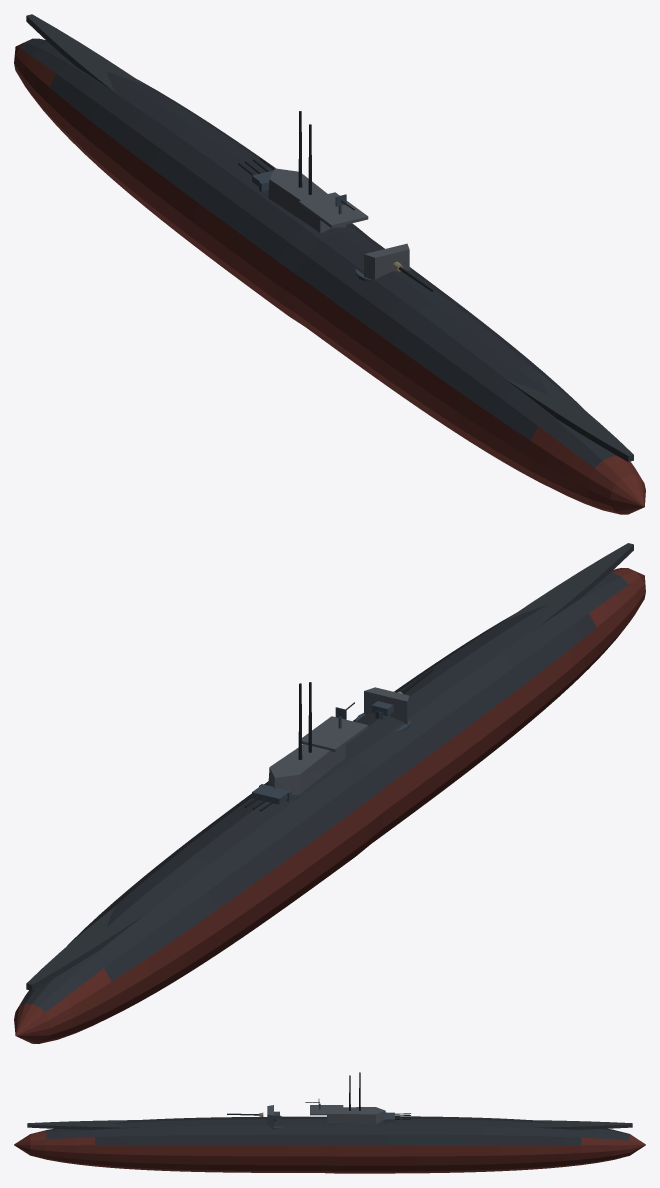
The model's file is gato.glb.
3 renders of one model, top to bottom at view 1: azimuth 30°, elevation 25°; view 2: azimuth 150°, elevation 25°; view 3: azimuth 270°, elevation 25°, orthographic. The views are drawn at different scales.
Parts seen in each view (by area): view 1: Hull, DeckGun; view 2: Hull, DeckGun, Bofors1; view 3: Hull, DeckGun, Bofors1.
Part boxes in pixels (left/top/right/bottom): Hull: left=14, top=14, right=645, bottom=514; DeckGun: left=355, top=243, right=433, bottom=291; Hull: left=14, top=543, right=645, bottom=1043; DeckGun: left=355, top=668, right=433, bottom=732; Bofors1: left=238, top=784, right=291, bottom=811; Hull: left=14, top=1072, right=645, bottom=1173; DeckGun: left=227, top=1105, right=283, bottom=1129; Bofors1: left=384, top=1112, right=410, bottom=1123.
Size of the model in its own units: 8.3 by 16.34 by 95.
